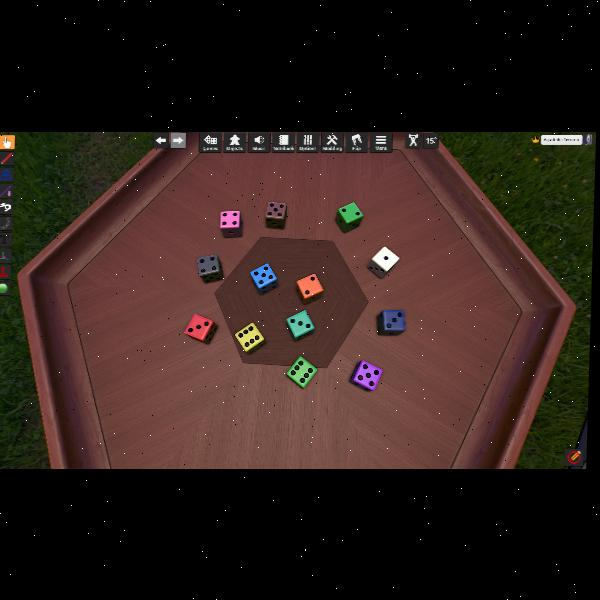d6: (349, 359, 381, 391), (233, 322, 265, 354), (368, 245, 399, 278), (286, 355, 318, 386), (184, 314, 216, 344), (285, 308, 315, 340), (250, 262, 279, 294), (295, 274, 323, 304), (336, 202, 363, 232), (197, 253, 224, 283), (376, 309, 405, 335), (219, 209, 242, 237), (263, 202, 286, 230)
